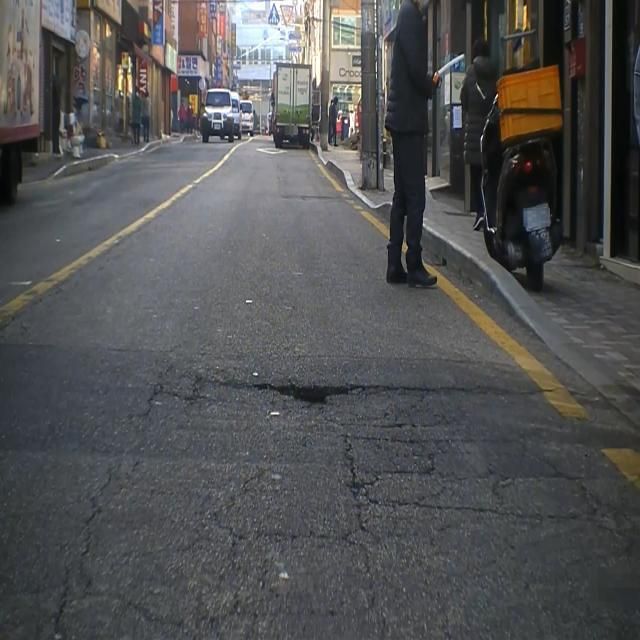Buraco: (246, 381, 394, 410)
